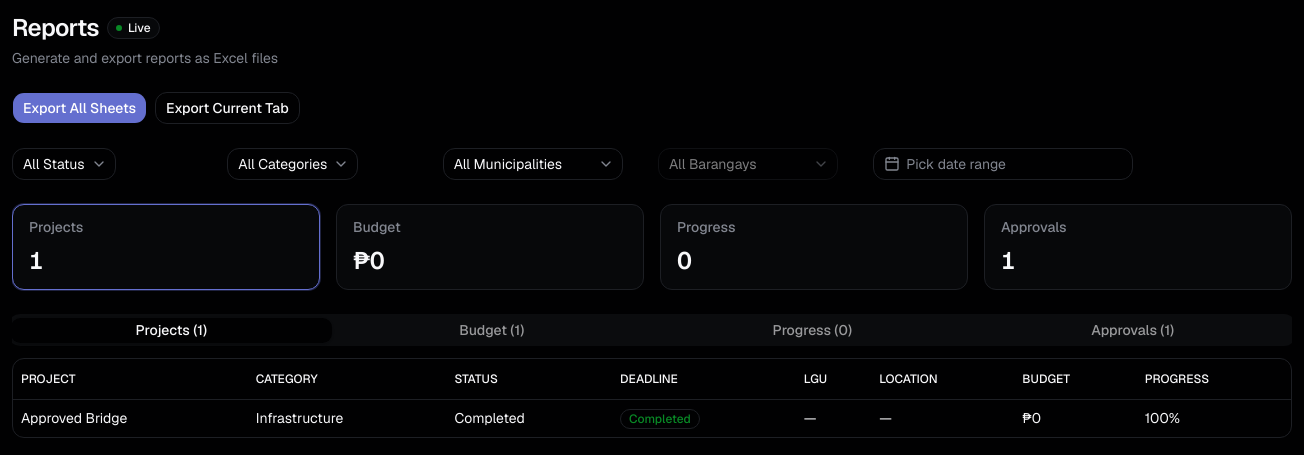
Test case: ReportsModule (V12) › should show Approved By email from expand when name is empty
Step 1. Click the tab "Approvals (1)" → (1132, 330), box [972,318,1292,342]
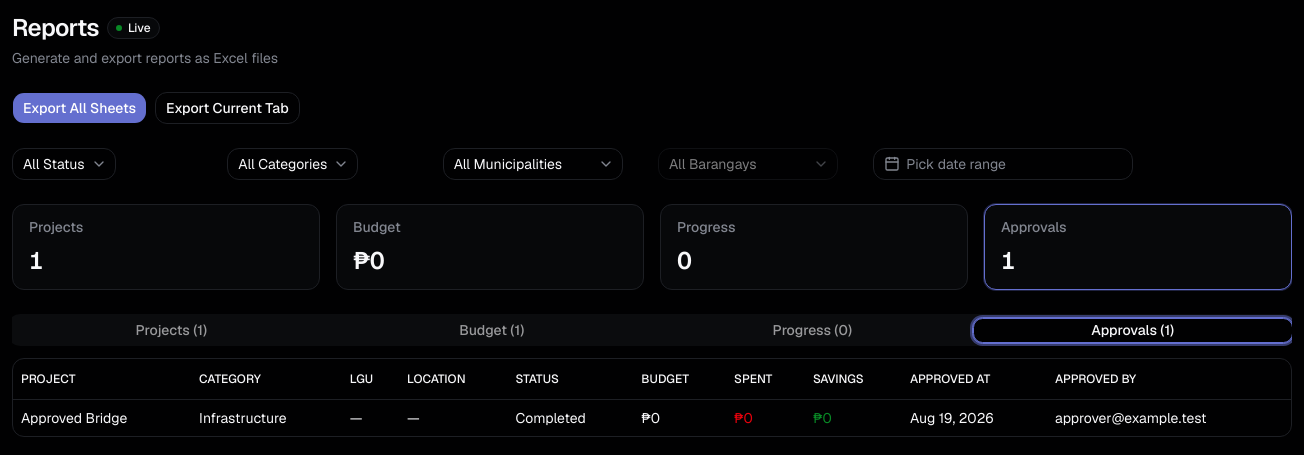
Result: the text "approver@example.test" is shown at [1047,399,1291,436]
